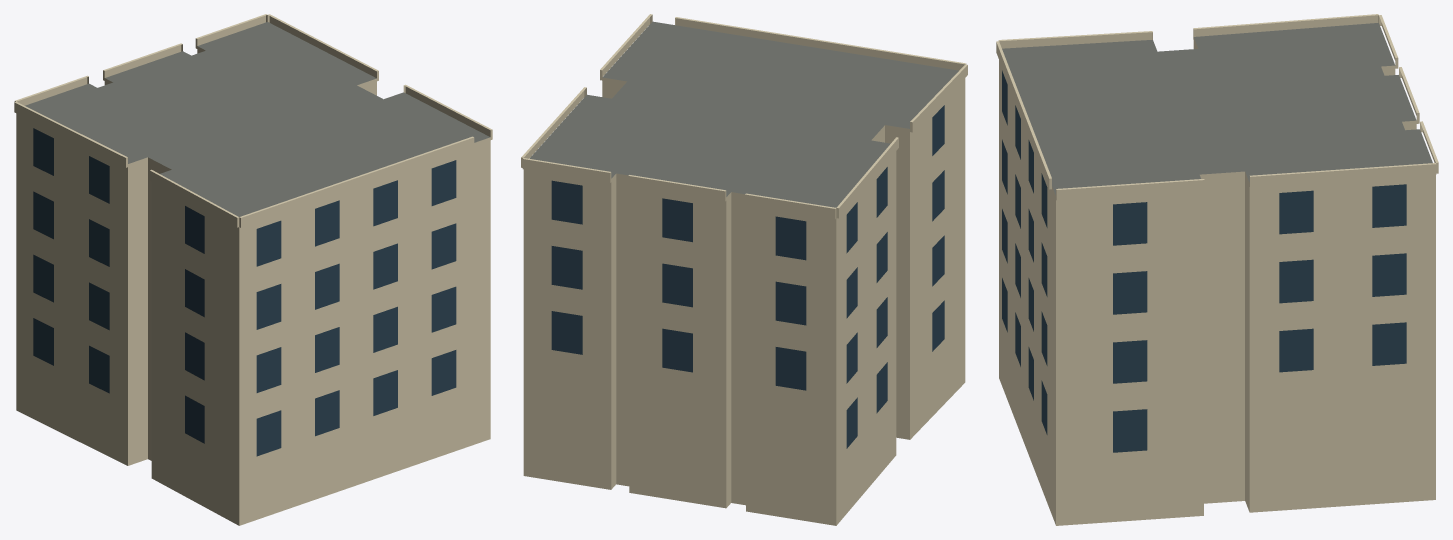
3 views of the same model, side by side, from view 1: azimuth 30°, elevation 25°; view 2: azimuth 150°, elevation 25°; view 3: azimuth 270°, elevation 25° (orthographic). The views are drawn at different scales.
Parts seen in each view (by area): view 1: Footprint 0 / surface 2, Footprint 0 / surface 1, Inset glazing, Facade bay volumes; view 2: Footprint 0 / surface 2, Footprint 0 / surface 1, Inset glazing, Facade bay volumes; view 3: Footprint 0 / surface 2, Footprint 0 / surface 1, Inset glazing, Facade bay volumes.
Boxes of the visible parts, bbox=[...] form: Footprint 0 / surface 2: bbox=[16, 46, 490, 525]; Footprint 0 / surface 1: bbox=[25, 22, 489, 216]; Inset glazing: bbox=[33, 128, 456, 456]; Facade bay volumes: bbox=[14, 14, 492, 227]; Footprint 0 / surface 2: bbox=[523, 77, 965, 525]; Footprint 0 / surface 1: bbox=[529, 21, 958, 207]; Inset glazing: bbox=[551, 105, 944, 448]; Facade bay volumes: bbox=[521, 14, 967, 219]; Footprint 0 / surface 2: bbox=[999, 37, 1435, 525]; Footprint 0 / surface 1: bbox=[1002, 23, 1432, 195]; Inset glazing: bbox=[1002, 70, 1406, 452]; Facade bay volumes: bbox=[996, 14, 1438, 200].
Size of the model in its own units: 17.36 by 15.49 by 18.44.
